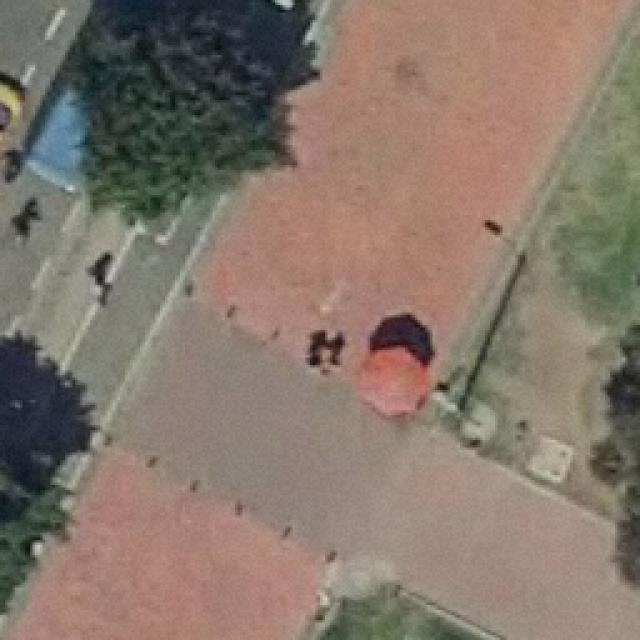vendedor_ambulante: (357, 343, 433, 421)
